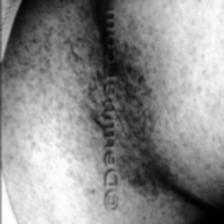Unclassified: (82, 64, 170, 204)
